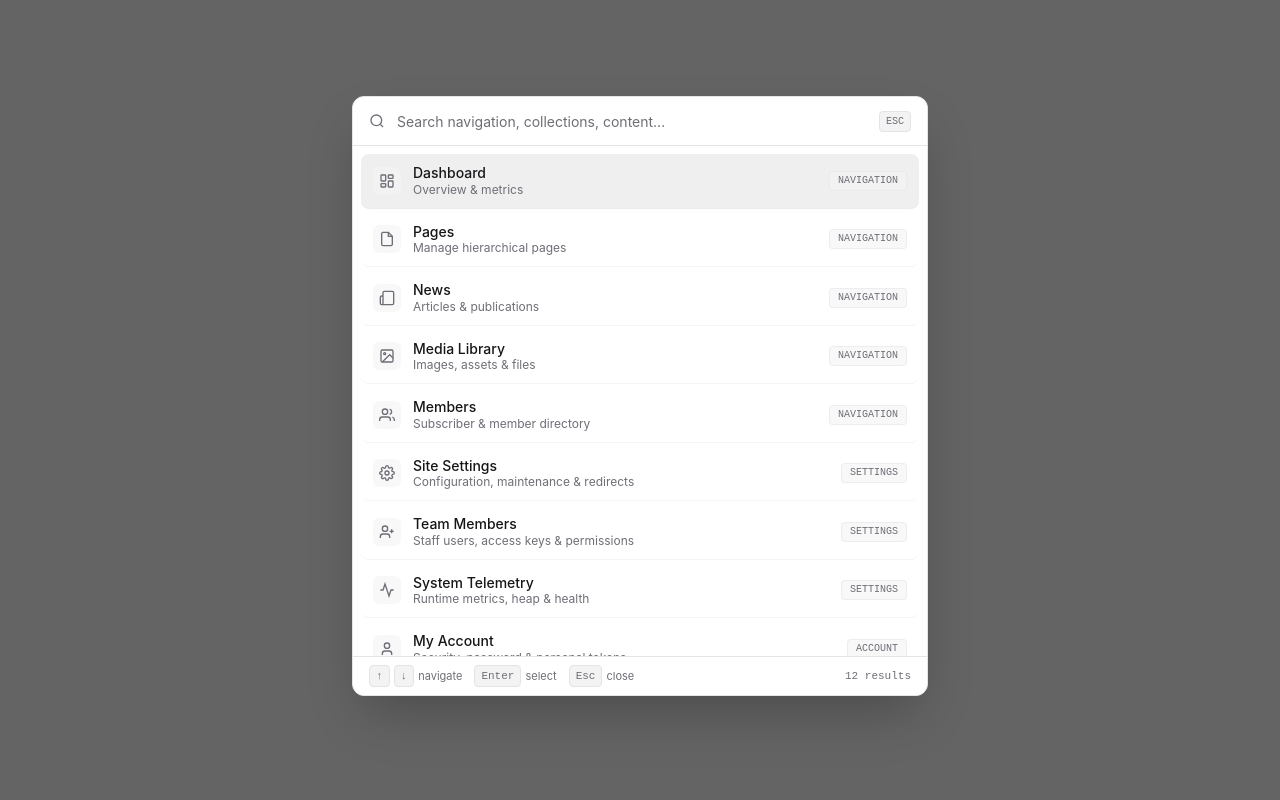
it: SearchCommandModal › filters items by the typed query
Type "dashboard" into the field with placeholder "Search navigation, collections, content..." at (632, 121), box [397, 97, 867, 145]
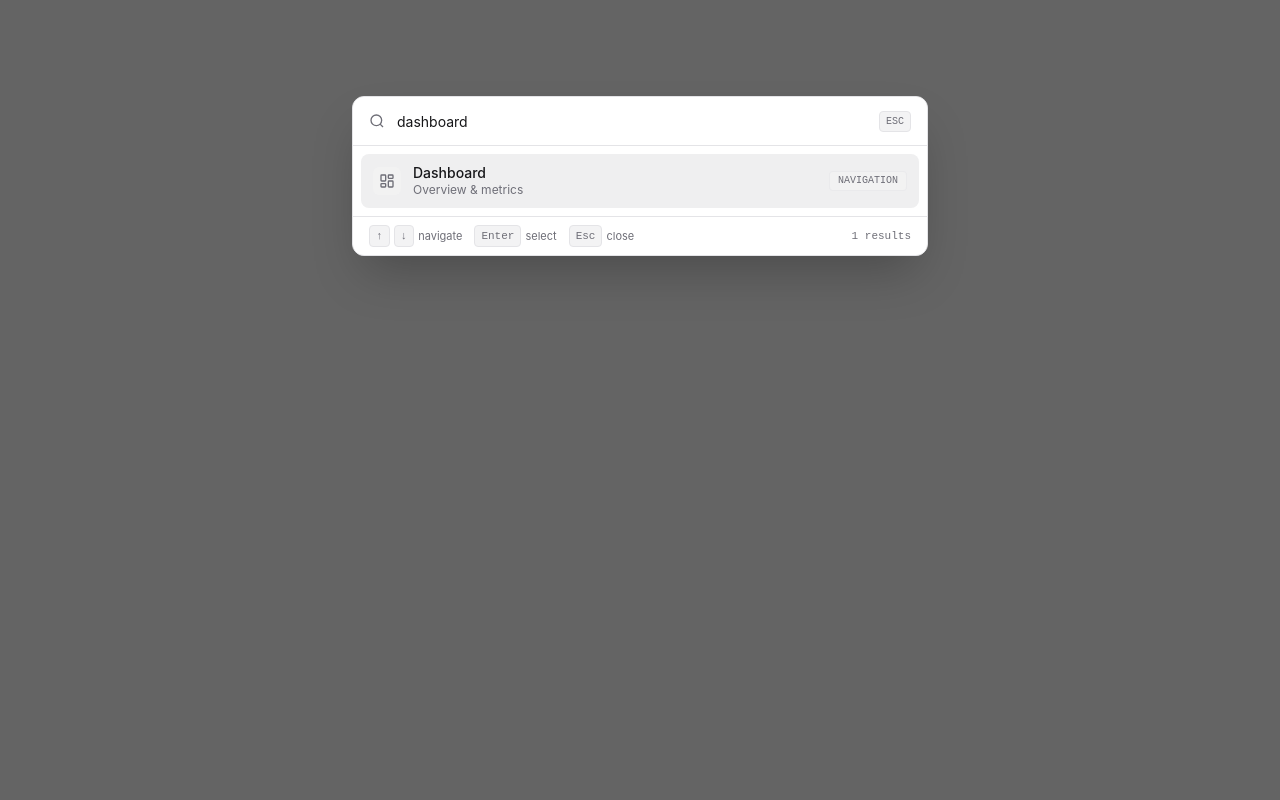
Expected: the text "Dashboard" is shown, [413, 164, 486, 181]
Result: the button "Pages" is gone
